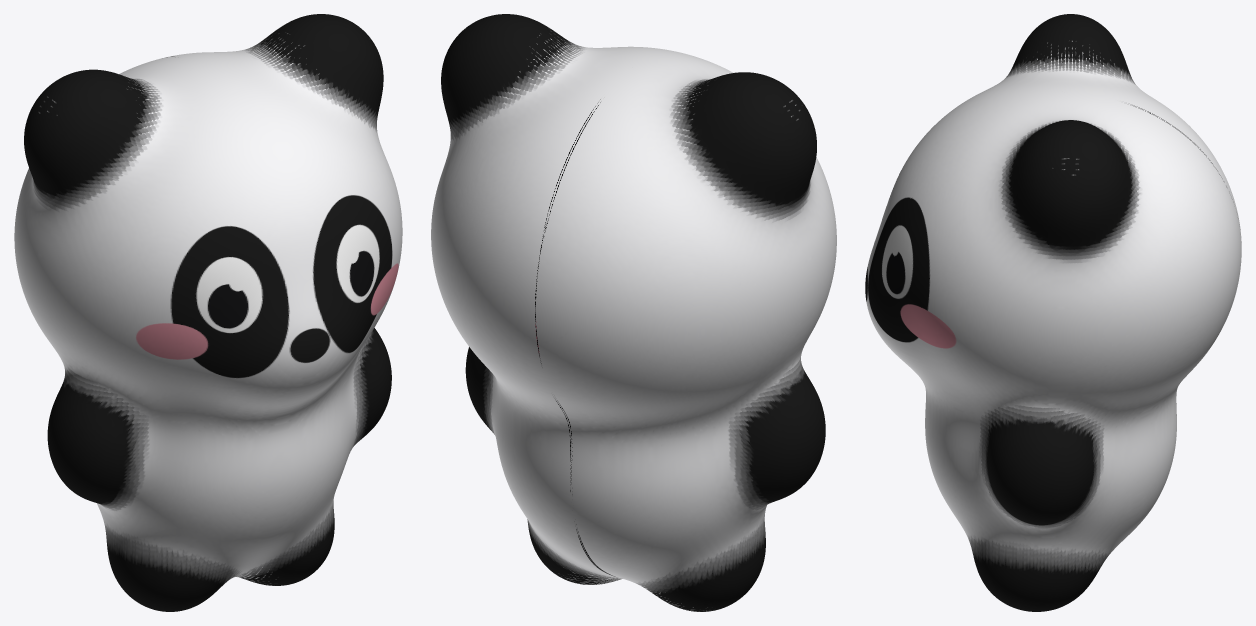
Rendered from figure-panda.glb.
3 renders of one model, left to right at view 1: azimuth 30°, elevation 25°; view 2: azimuth 150°, elevation 25°; view 3: azimuth 270°, elevation 25°, orthographic. The views are drawn at different scales.
Visible parts, largest first — view 1: world; view 2: world; view 3: world.
Part boxes in pixels (x1,y1,x2,y2): world: (14,14,402,611); world: (431,14,836,611); world: (865,14,1241,611).
Size of the model in its own units: 2.12 by 3.12 by 2.09.
1 material, 1 textured.
